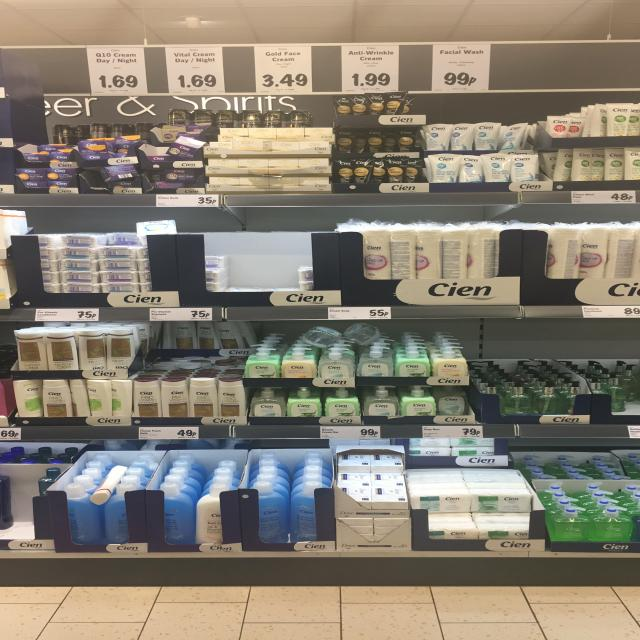empty: (222, 230, 299, 300)
